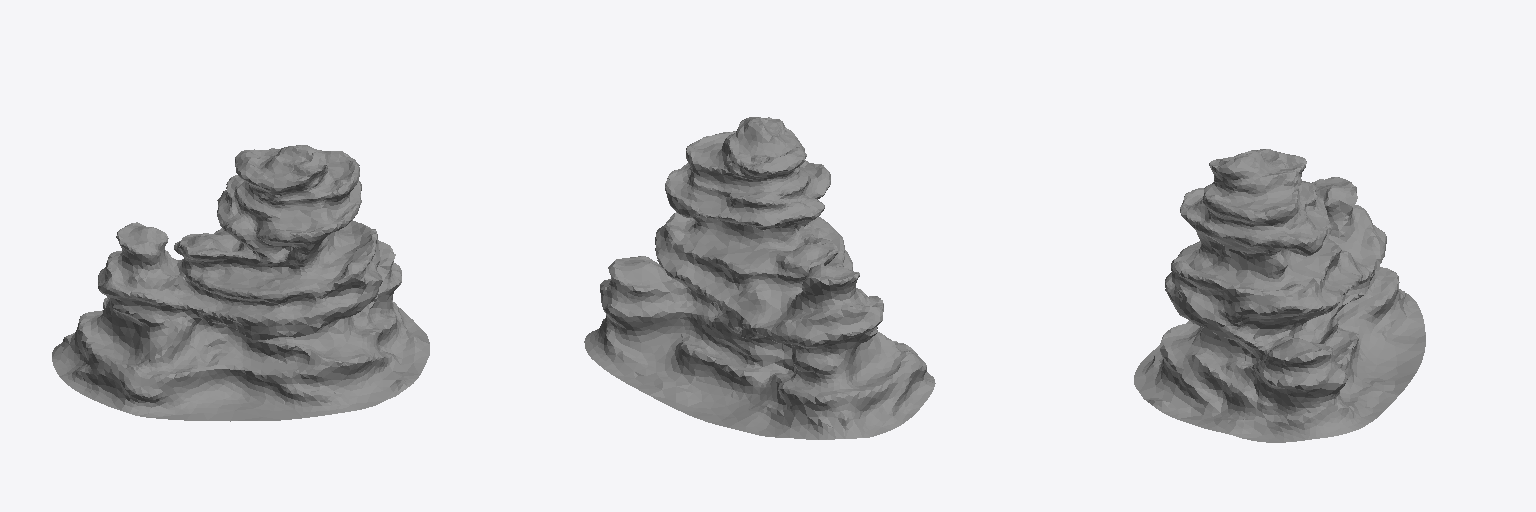
Rendered from large_rock.obj.
The picture shows the model from 3 angles: view 1: azimuth 30°, elevation 25°; view 2: azimuth 150°, elevation 25°; view 3: azimuth 270°, elevation 25°; orthographic projection.
Visible parts, largest first — view 1: LargeCaveRock; view 2: LargeCaveRock; view 3: LargeCaveRock.
Part boxes in pixels (x1,y1,x2,y2): LargeCaveRock: (52, 145, 429, 421); LargeCaveRock: (584, 117, 935, 439); LargeCaveRock: (1134, 149, 1425, 442).
Bounding box in the file's own units: 133 × 90.47 × 104.